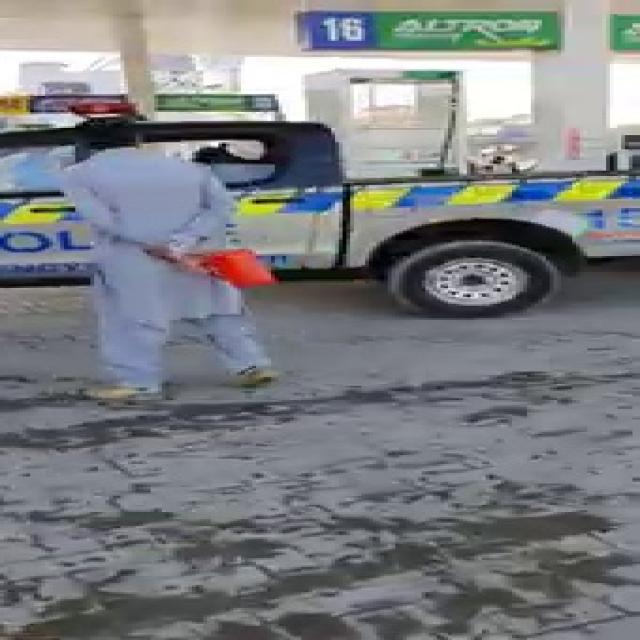police: (0, 66, 629, 314)
